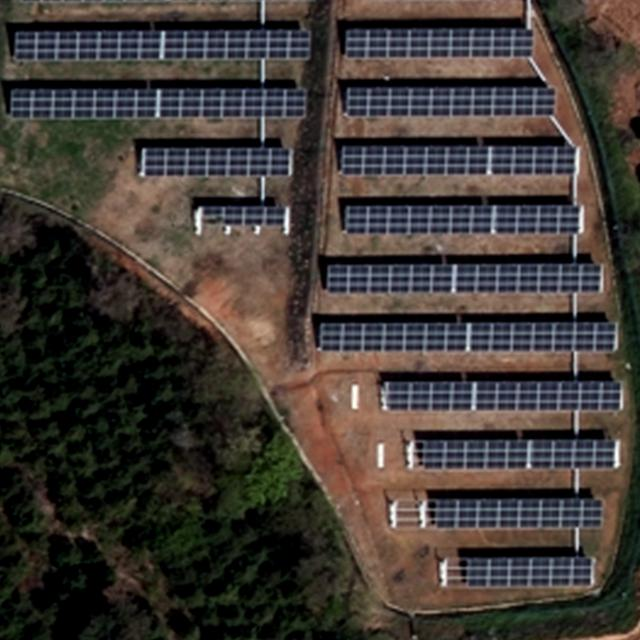panel: (316, 315, 621, 356), (12, 25, 314, 62), (6, 85, 311, 121), (324, 258, 606, 296), (339, 139, 582, 178), (343, 201, 585, 235), (341, 81, 559, 118), (381, 380, 625, 413), (416, 435, 619, 471), (344, 22, 535, 59), (425, 496, 605, 528), (136, 143, 295, 175), (464, 553, 594, 586), (199, 201, 288, 227)
